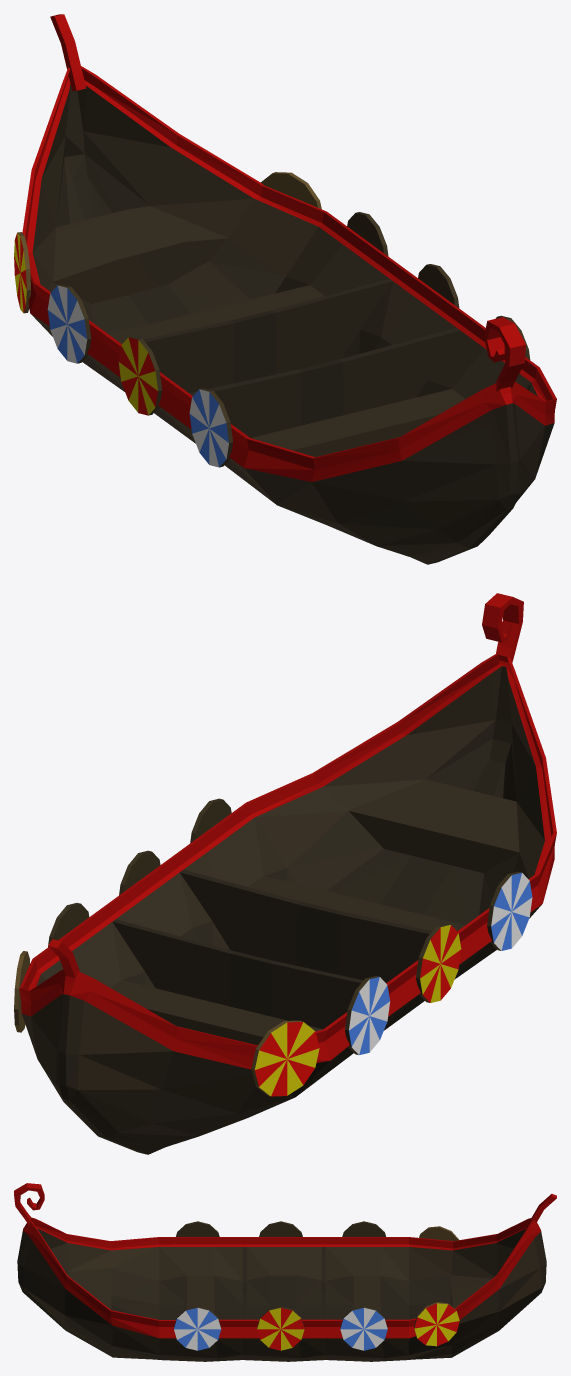
Rendered from Ship_01.fbx.
3 views of the same model, one above another, from view 1: azimuth 30°, elevation 25°; view 2: azimuth 150°, elevation 25°; view 3: azimuth 270°, elevation 25° (orthographic). The views are drawn at different scales.
Visible parts, largest first — view 1: Boat_Inner_01, Boat_Outer_01; view 2: Boat_Inner_01, Boat_Outer_01; view 3: Boat_Outer_01, Boat_Inner_01.
Part boxes in pixels (x1,y1,x2,y2): Boat_Inner_01: [27, 77, 546, 456]; Boat_Outer_01: [14, 14, 556, 564]; Boat_Inner_01: [28, 663, 551, 1045]; Boat_Outer_01: [14, 593, 556, 1154]; Boat_Outer_01: [14, 1183, 556, 1361]; Boat_Inner_01: [36, 1226, 525, 1319].
Size of the model in its own units: 935 by 875 by 2478.
